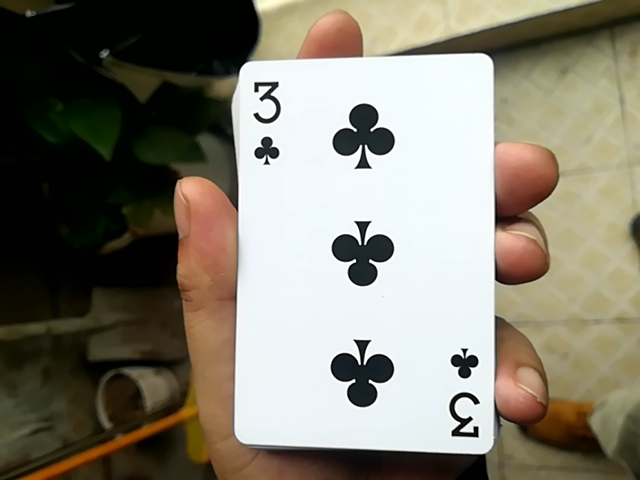mh 3: (217, 44, 496, 461)
